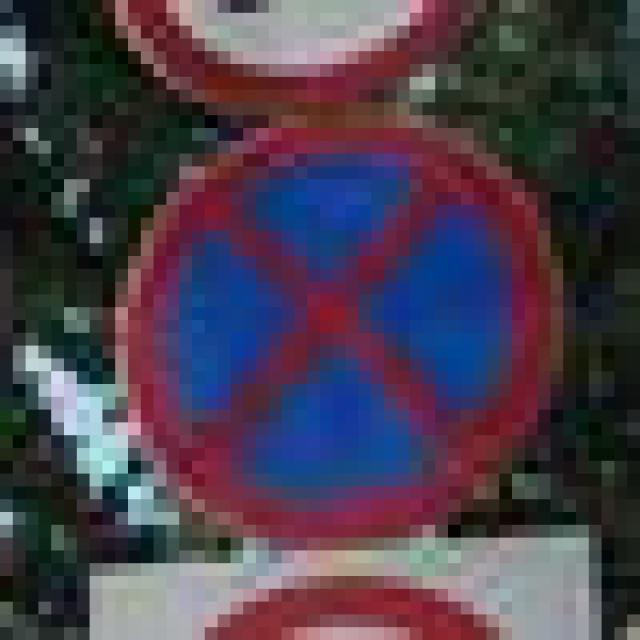no stopping or standing: (112, 108, 571, 552)
